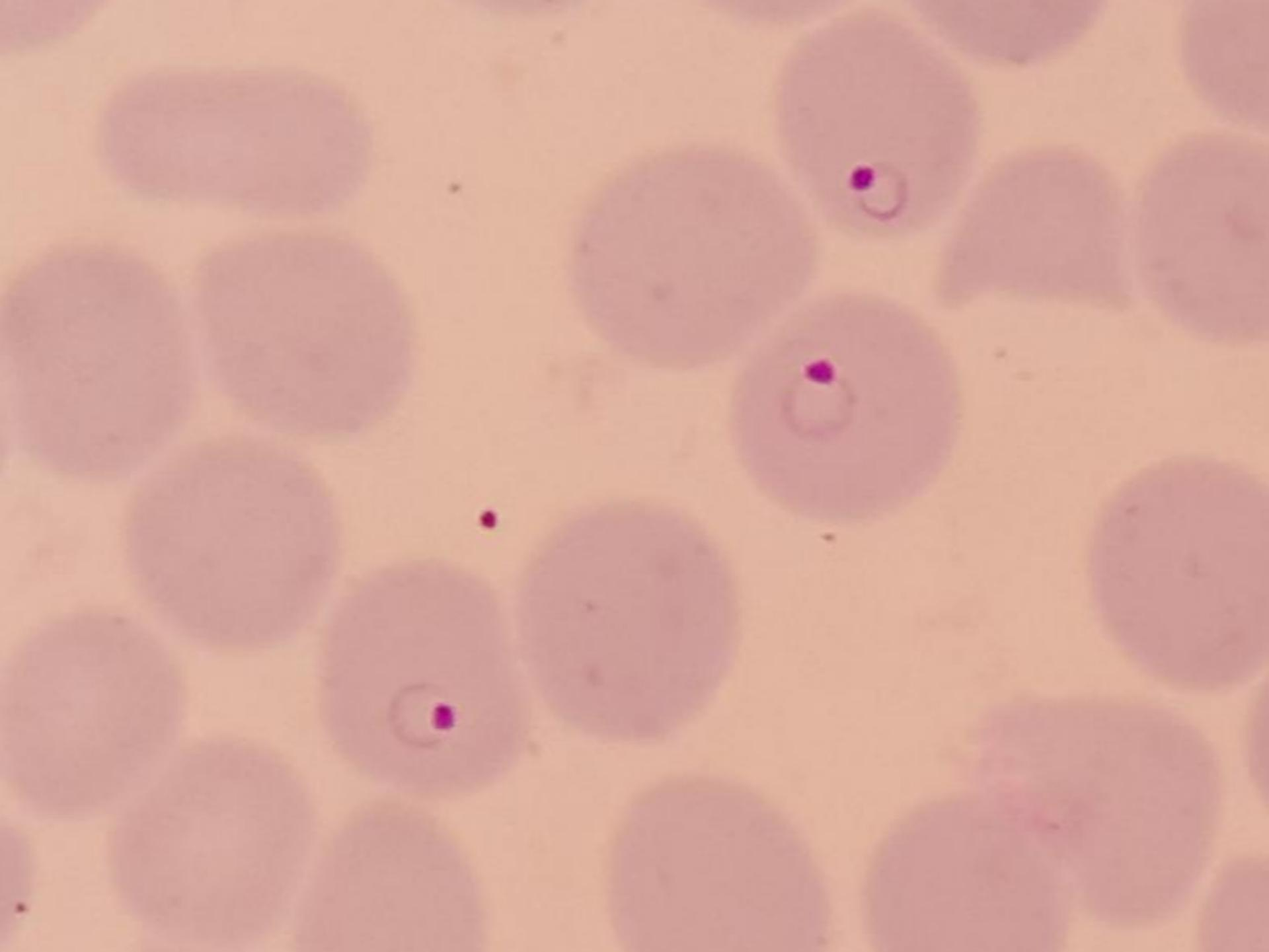Infected: (729, 291, 965, 516), (317, 560, 533, 791), (773, 9, 976, 236)
Uninfected: (570, 144, 821, 365), (978, 689, 1216, 920), (525, 502, 744, 748), (106, 740, 319, 948), (192, 235, 411, 435), (126, 445, 342, 647), (1084, 453, 1269, 688), (0, 246, 185, 477), (99, 66, 370, 219), (608, 778, 833, 952), (925, 141, 1137, 324), (0, 608, 190, 809), (859, 795, 1068, 952), (291, 801, 492, 952), (1143, 128, 1269, 349)
